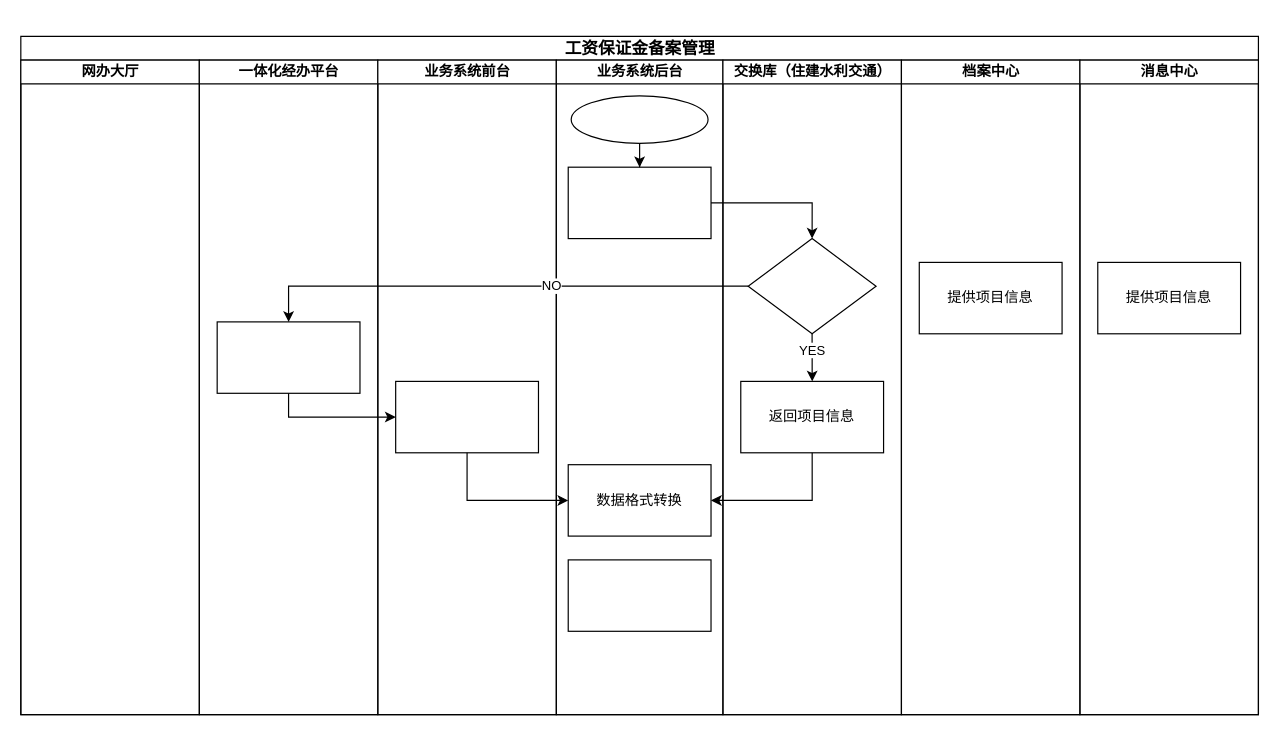
Some shapes in this 1279 by 735 pixel diagram are drawn without their labels. The centre of each missing label's shape, as x and y in pixels:
"Start" belongs at point (639, 119).
"有在建项目 ？" belongs at point (811, 285).
"查询在建项目信息" belongs at point (639, 202).
"查询时间段项目信息" belongs at point (639, 595).
"检验录入内容" belongs at point (466, 416).
"经办人员填写信息" belongs at point (288, 357).
